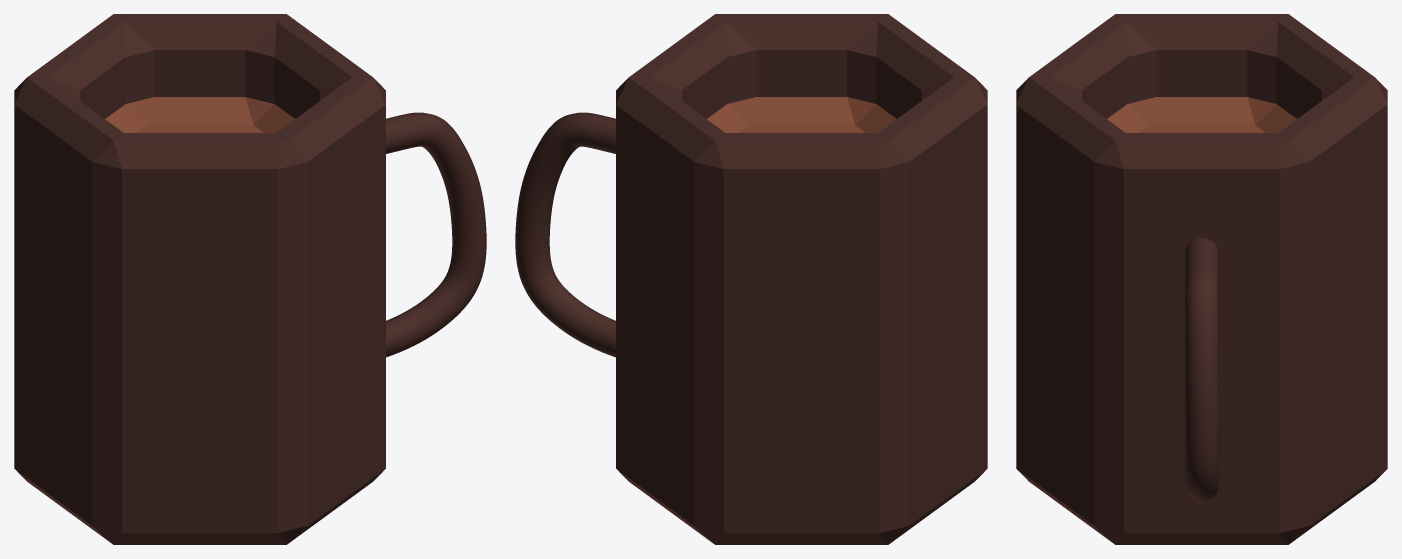
The model's file is coffee_mug.glb.
The picture shows the model from 3 angles, left to right: view 1: azimuth 30°, elevation 25°; view 2: azimuth 150°, elevation 25°; view 3: azimuth 270°, elevation 25°; orthographic projection.
Parts seen in each view (by area): view 1: mug, mug-holder, coffee; view 2: mug, mug-holder, coffee; view 3: mug, mug-holder, coffee.
Boxes of the visible parts, x1,y1,x2,y2 form: mug: (14, 14, 385, 544); mug-holder: (386, 112, 486, 357); coffee: (105, 97, 294, 132); mug: (616, 14, 987, 544); mug-holder: (515, 112, 615, 357); coffee: (707, 97, 896, 132); mug: (1016, 14, 1387, 544); mug-holder: (1184, 238, 1219, 501); coffee: (1107, 97, 1296, 132).
Bounding box in the file's own units: 0.4461 × 0.4 × 0.3332.
